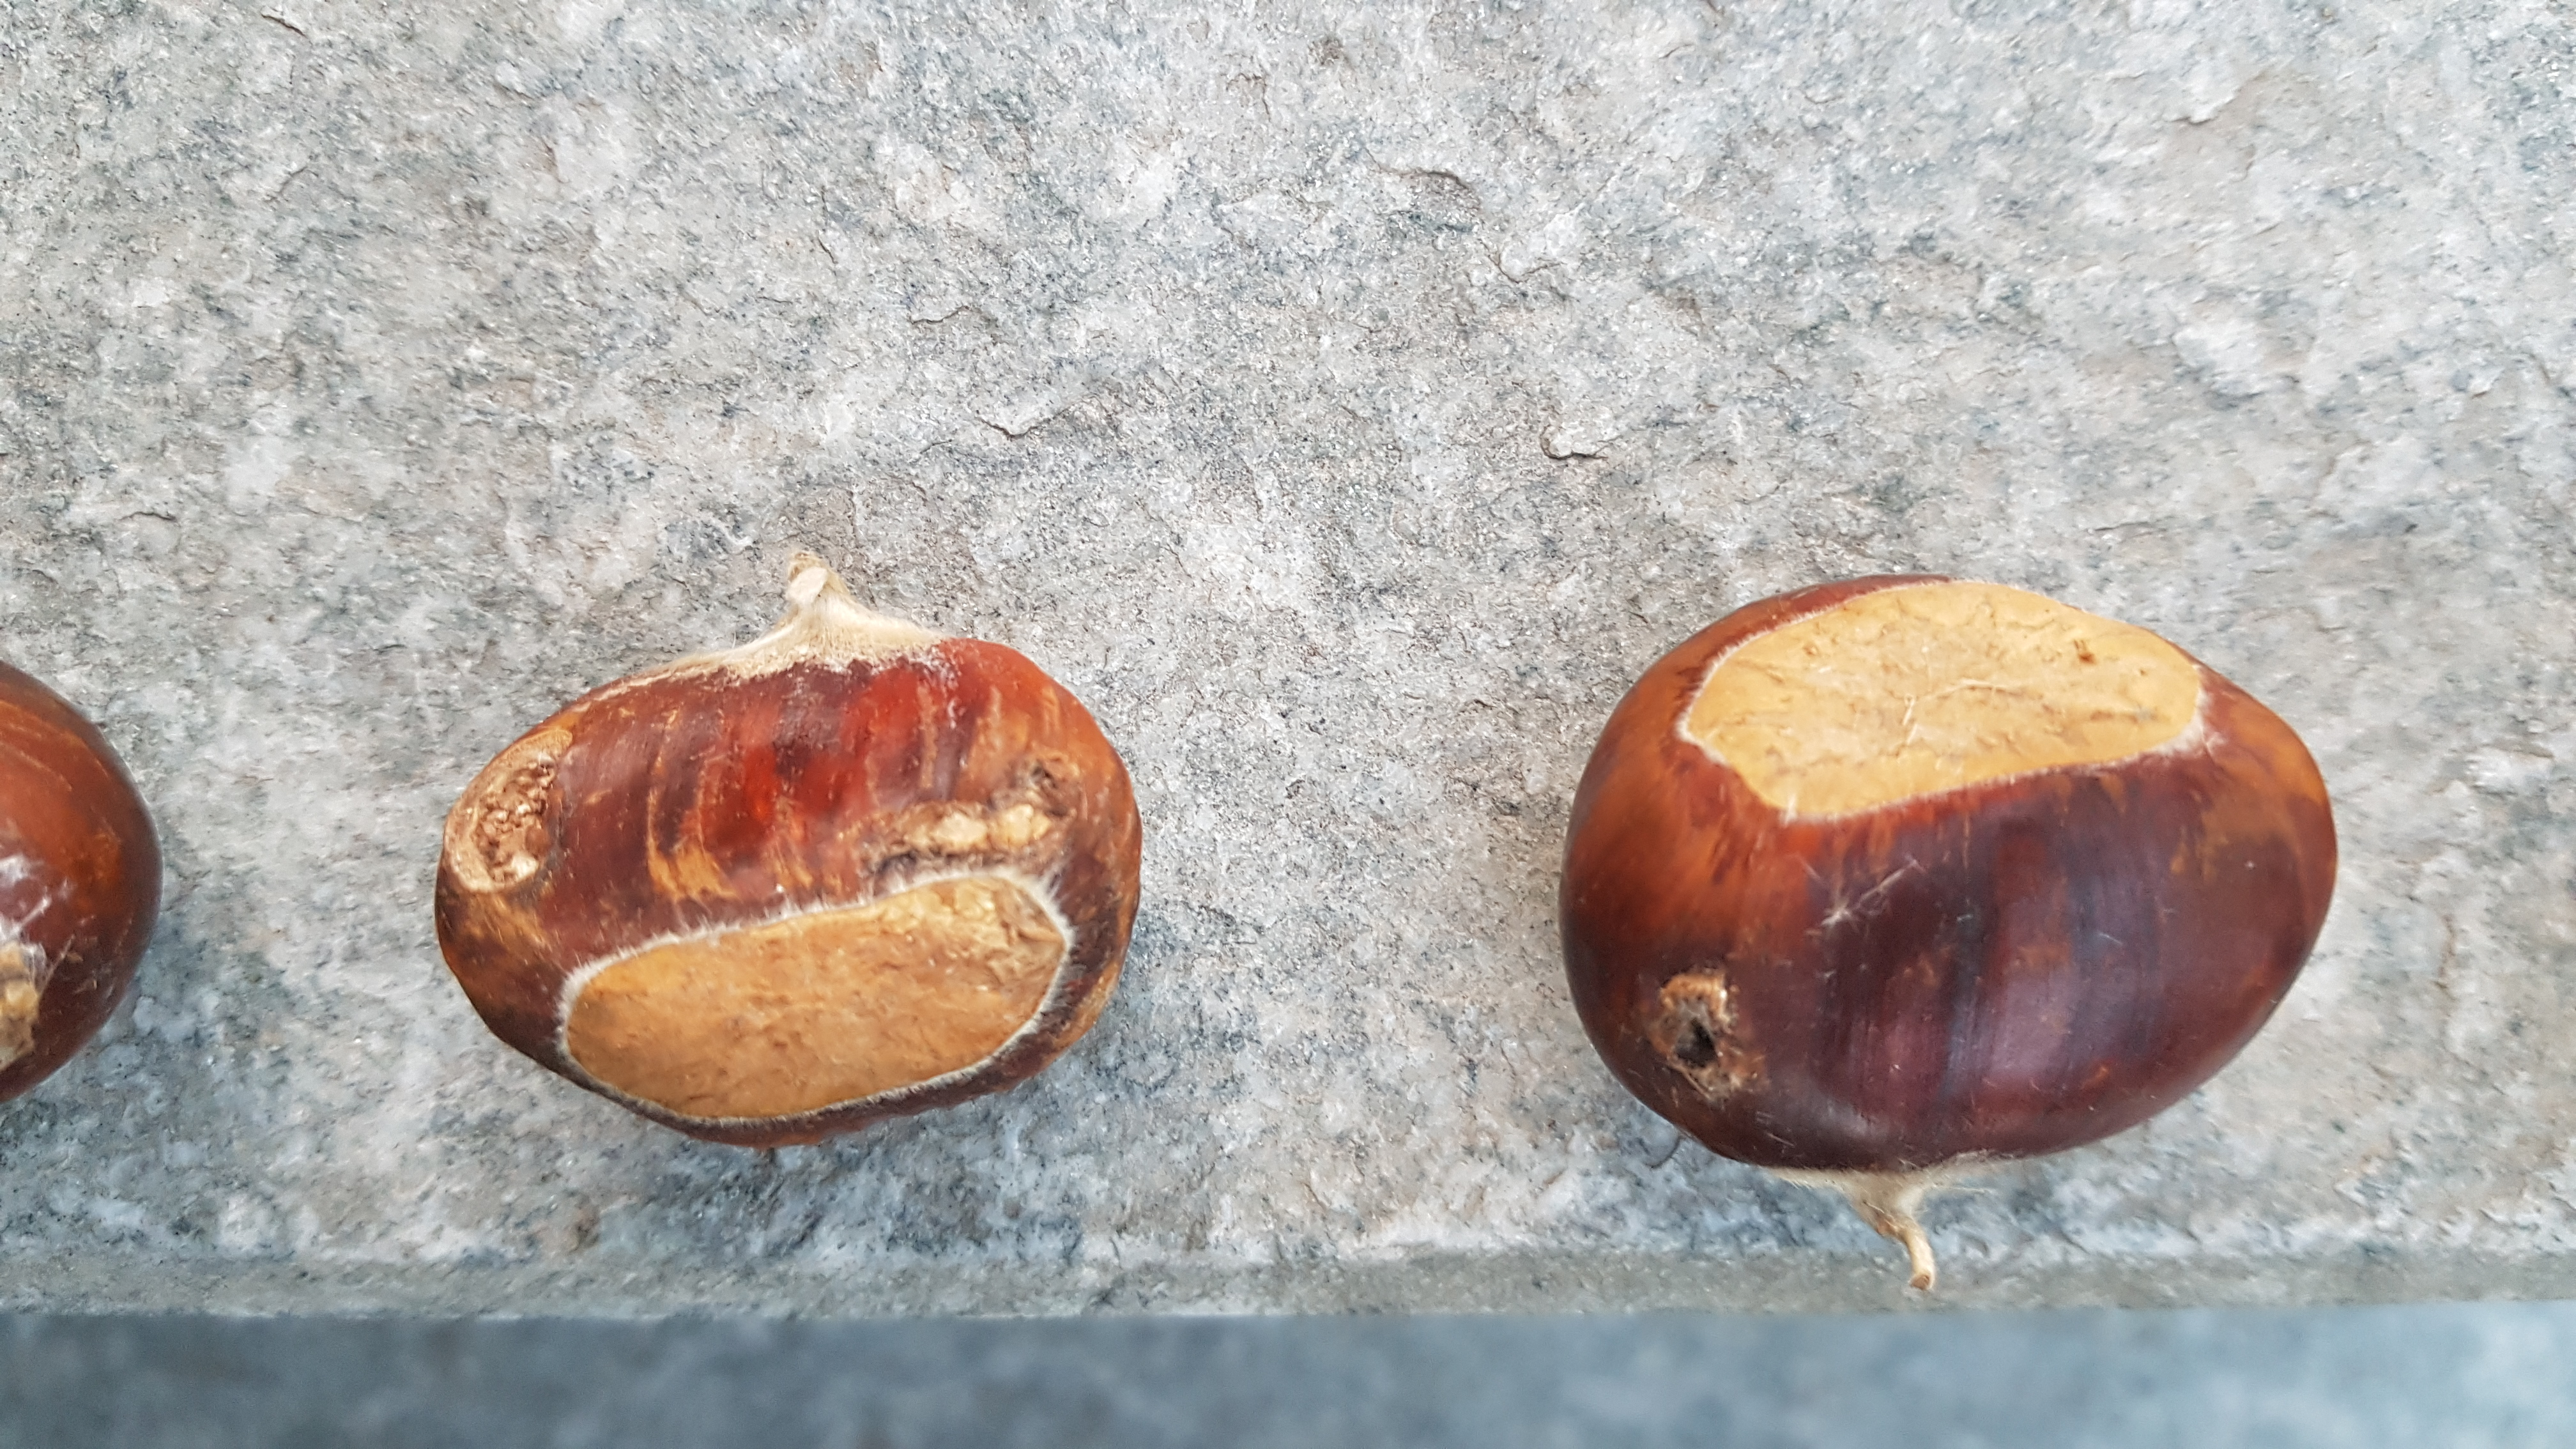camola: (425, 708, 582, 916), (876, 754, 1093, 904), (1617, 959, 1776, 1129)
